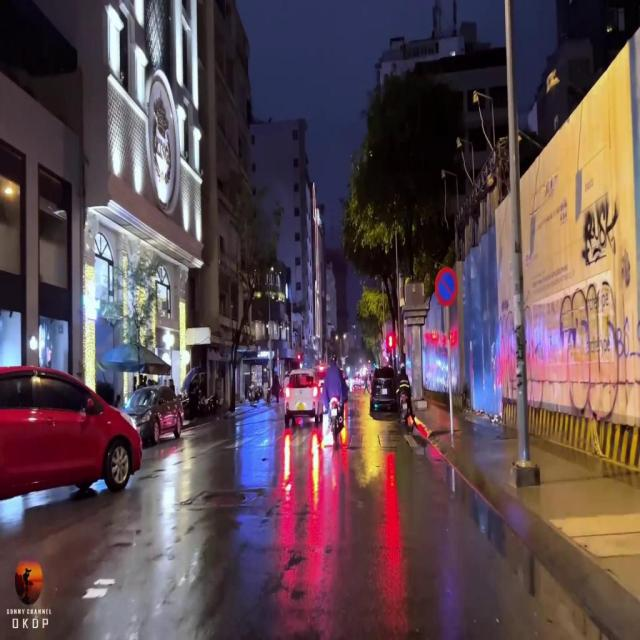cam_do_xe: (435, 266, 458, 306)
